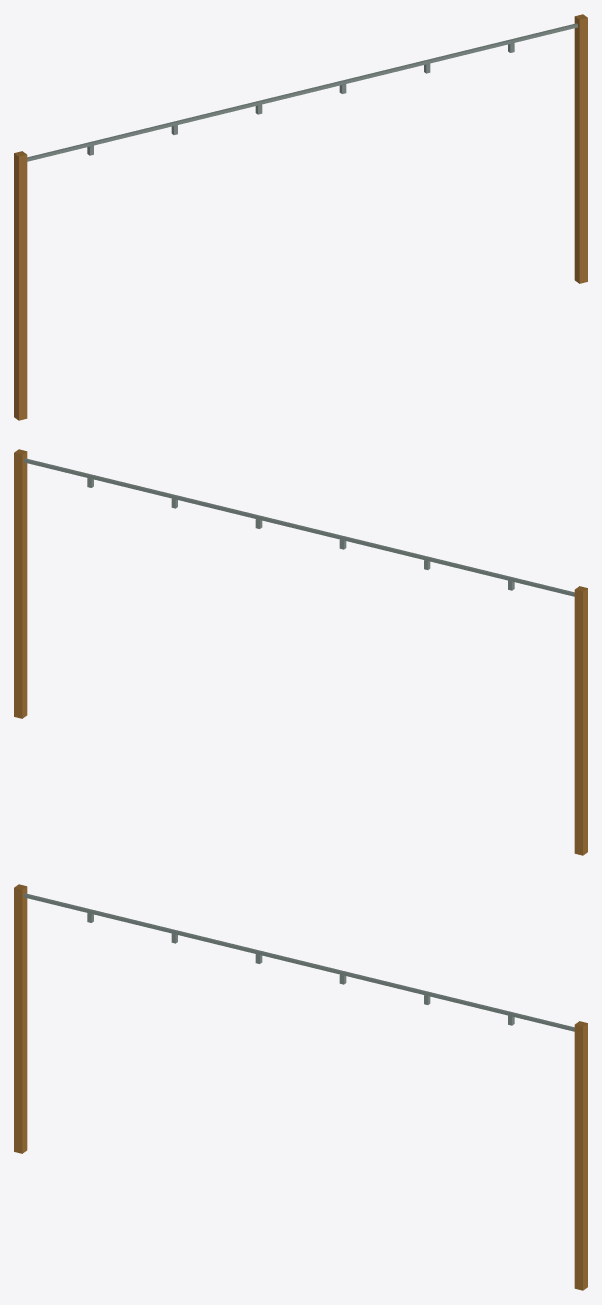
Rendered from SM_Tendedero_v4_Vacio_LOD0.fbx.
3 views of the same model, one above another, from view 1: azimuth 30°, elevation 25°; view 2: azimuth 150°, elevation 25°; view 3: azimuth 330°, elevation 25° (orthographic).
Visible parts, largest first — view 1: SM_vida_fuerte_v9_LOD0; view 2: SM_vida_fuerte_v9_LOD0; view 3: SM_vida_fuerte_v9_LOD0.
Boxes of the visible parts, x1,y1,x2,y2 form: SM_vida_fuerte_v9_LOD0: (14,14,587,420); SM_vida_fuerte_v9_LOD0: (14,449,587,855); SM_vida_fuerte_v9_LOD0: (14,884,587,1290).
Bounding box in the file's own units: 4.06 × 1.8 × 0.06.
